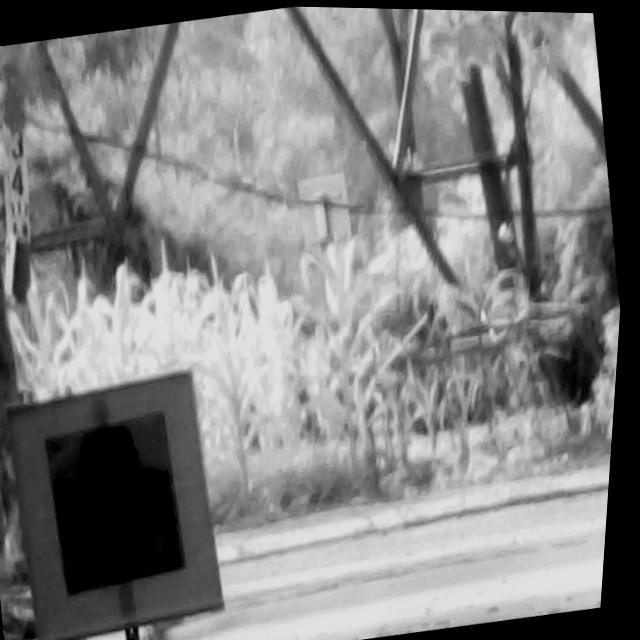bia: (51, 410, 193, 596)
